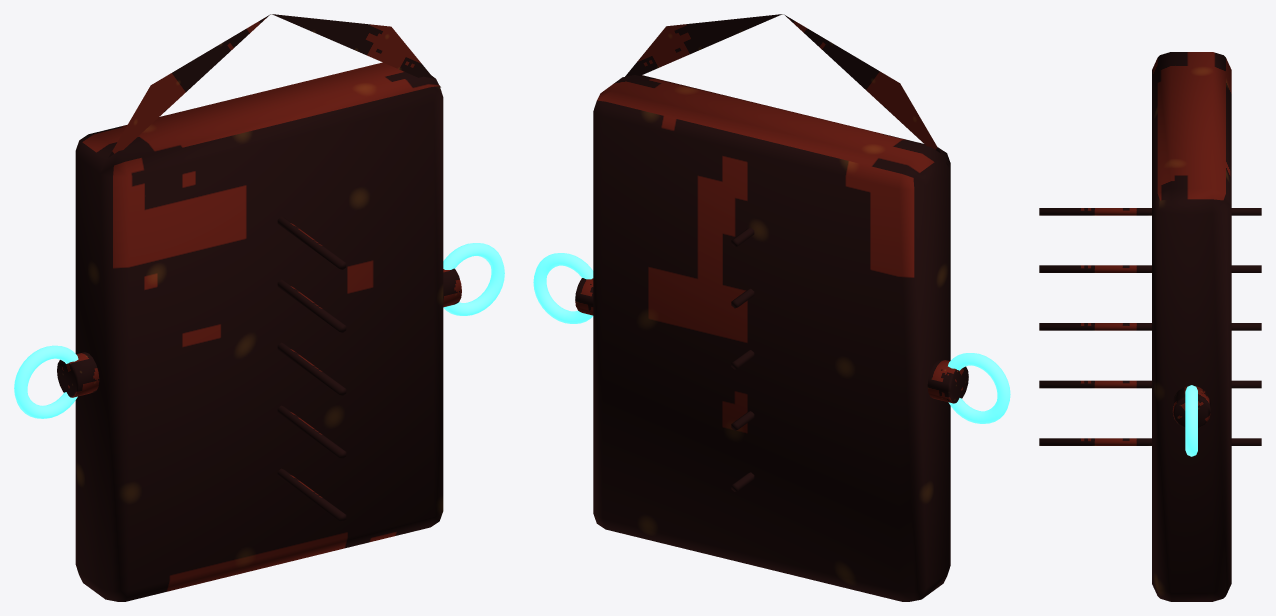
Rendered from inscribed_stele_pattern_cinnabar.fbx.
3 views of the same model, side by side, from view 1: azimuth 30°, elevation 25°; view 2: azimuth 150°, elevation 25°; view 3: azimuth 270°, elevation 25° (orthographic). The views are drawn at different scales.
Parts seen in each view (by area): view 1: TH10_Stele_Body, TH10_Stele_Crown, TH10_Stele_Handle, TH10_Stele_Handle.001, TH10_Stele_HandleSocket, TH10_Stele_Glyph, TH10_Stele_Glyph.002, TH10_Stele_Glyph.001, TH10_Stele_Glyph.003, TH10_Stele_Glyph.004; view 2: TH10_Stele_Body, TH10_Stele_Crown, TH10_Stele_Handle, TH10_Stele_Handle.001, TH10_Stele_HandleSocket; view 3: TH10_Stele_Body, TH10_Stele_Glyph.001, TH10_Stele_Glyph, TH10_Stele_Glyph.002, TH10_Stele_Glyph.003, TH10_Stele_Glyph.004, TH10_Stele_Handle.001, TH10_Stele_HandleSocket.001.
Part boxes in pixels (left/top/right/bottom): TH10_Stele_Body: left=75, top=62, right=443, bottom=601; TH10_Stele_Crown: left=101, top=14, right=440, bottom=170; TH10_Stele_Handle: left=14, top=345, right=78, bottom=418; TH10_Stele_Handle.001: left=443, top=243, right=504, bottom=315; TH10_Stele_HandleSocket: left=57, top=352, right=99, bottom=397; TH10_Stele_Glyph: left=277, top=468, right=346, bottom=521; TH10_Stele_Glyph.002: left=277, top=342, right=346, bottom=395; TH10_Stele_Glyph.001: left=277, top=405, right=346, bottom=458; TH10_Stele_Glyph.003: left=277, top=279, right=346, bottom=332; TH10_Stele_Glyph.004: left=277, top=216, right=346, bottom=269; TH10_Stele_Body: left=593, top=75, right=950, bottom=601; TH10_Stele_Crown: left=625, top=14, right=948, bottom=166; TH10_Stele_Handle: left=948, top=353, right=1010, bottom=423; TH10_Stele_Handle.001: left=533, top=253, right=593, bottom=323; TH10_Stele_HandleSocket: left=927, top=359, right=968, bottom=403; TH10_Stele_Body: left=1152, top=52, right=1231, bottom=601; TH10_Stele_Glyph.001: left=1039, top=380, right=1261, bottom=388; TH10_Stele_Glyph: left=1039, top=438, right=1261, bottom=445; TH10_Stele_Glyph.002: left=1039, top=323, right=1261, bottom=330; TH10_Stele_Glyph.003: left=1039, top=265, right=1261, bottom=272; TH10_Stele_Glyph.004: left=1039, top=208, right=1261, bottom=215; TH10_Stele_Handle.001: left=1185, top=385, right=1197, bottom=456; TH10_Stele_HandleSocket.001: left=1172, top=386, right=1210, bottom=428.
Size of the model in its own units: 0.488 by 0.525 by 0.21.
2 materials, 1 textured.
